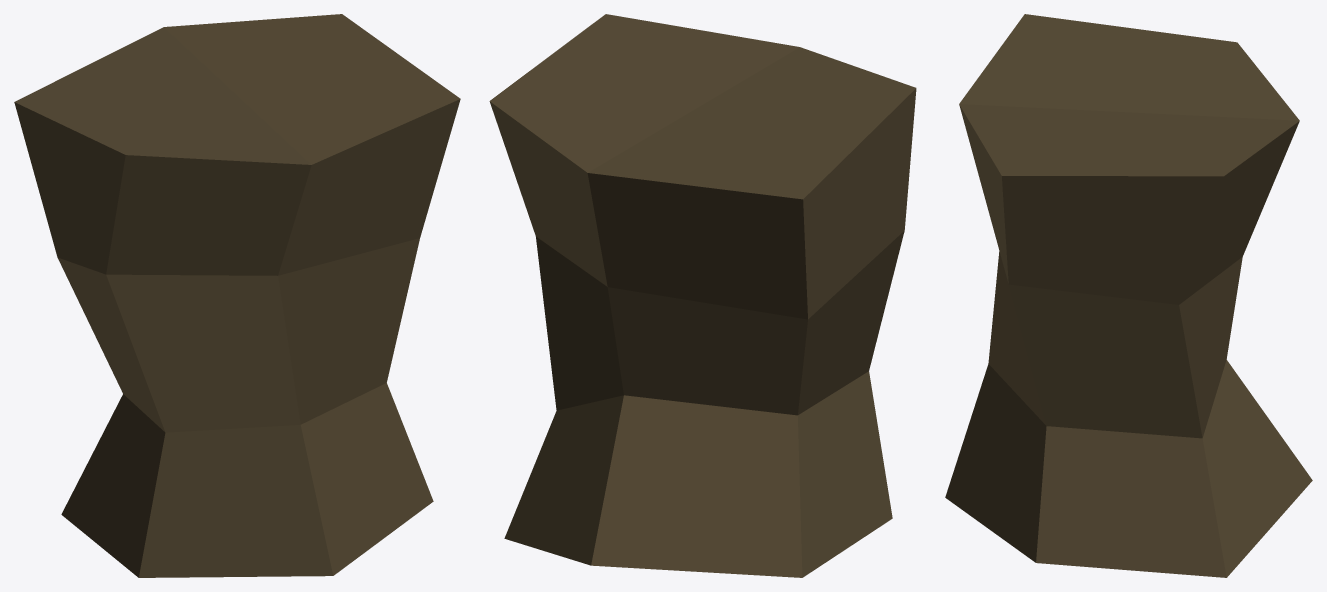
File: SmallPillar.2.fbx
3 renders of one model, left to right at view 1: azimuth 30°, elevation 25°; view 2: azimuth 150°, elevation 25°; view 3: azimuth 270°, elevation 25°, orthographic. The views are drawn at different scales.
Parts seen in each view (by area): view 1: Small_Pillar.2; view 2: Small_Pillar.2; view 3: Small_Pillar.2.
Part boxes in pixels (left/top/right/bottom): Small_Pillar.2: left=14, top=14, right=460, bottom=577; Small_Pillar.2: left=489, top=14, right=916, bottom=577; Small_Pillar.2: left=945, top=14, right=1312, bottom=577.
Size of the model in its own units: 401 by 524 by 413.
